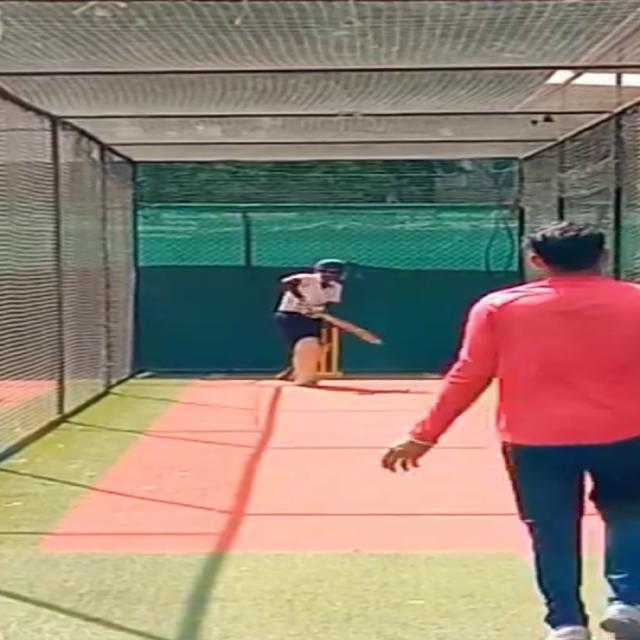stump: (316, 326, 344, 378)
